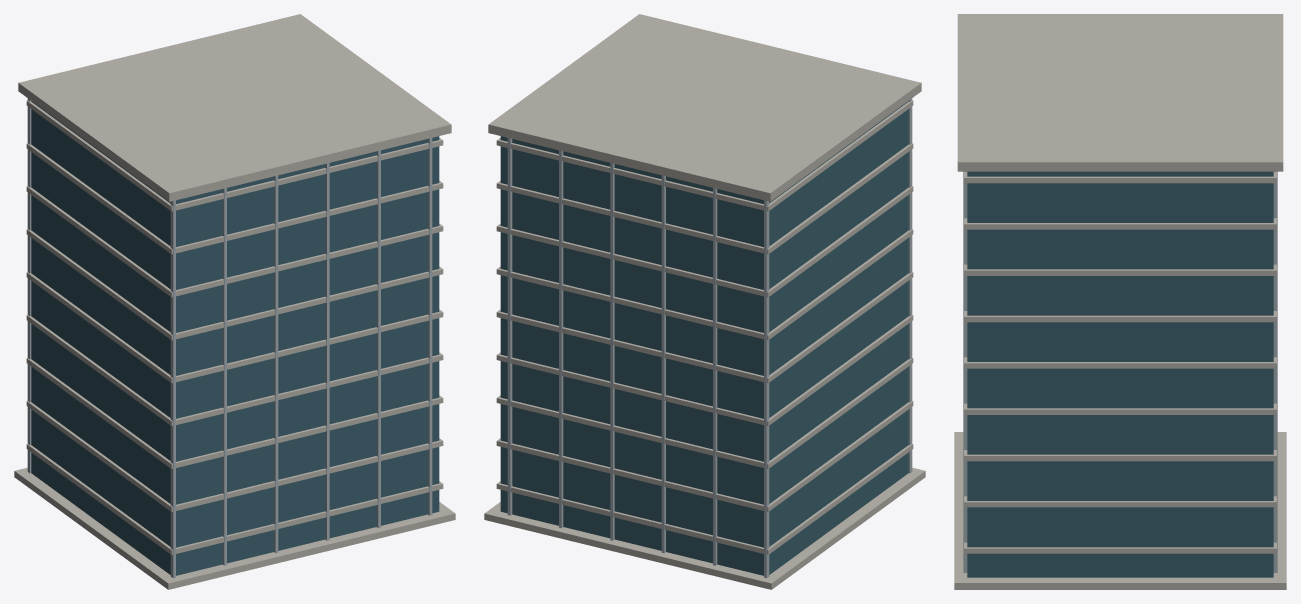
File: skyline-office.glb
3 views of the same model, side by side, from view 1: azimuth 30°, elevation 25°; view 2: azimuth 150°, elevation 25°; view 3: azimuth 270°, elevation 25° (orthographic). The views are drawn at different scales.
Visible parts, largest first — view 1: Facade mass, SkylineOffice_Concrete, SkylineOffice_Metal; view 2: Facade mass, SkylineOffice_Concrete, SkylineOffice_Metal; view 3: Facade mass, SkylineOffice_Concrete, SkylineOffice_Metal.
Part boxes in pixels (x1=…): Facade mass: x1=31, y1=101, x2=439, y2=575; SkylineOffice_Concrete: x1=14, y1=14, x2=455, y2=589; SkylineOffice_Metal: x1=27, y1=98, x2=432, y2=578; Facade mass: x1=500, y1=101, x2=908, y2=575; SkylineOffice_Concrete: x1=484, y1=14, x2=925, y2=589; SkylineOffice_Metal: x1=507, y1=98, x2=912, y2=578; Facade mass: x1=967, y1=171, x2=1273, y2=577; SkylineOffice_Concrete: x1=954, y1=14, x2=1286, y2=589; SkylineOffice_Metal: x1=963, y1=171, x2=1277, y2=572.
Bounding box in the file's own units: 28 × 36.8 × 26.
